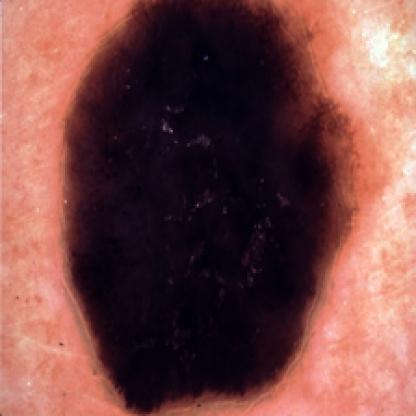malignant: (65, 20, 303, 382)
